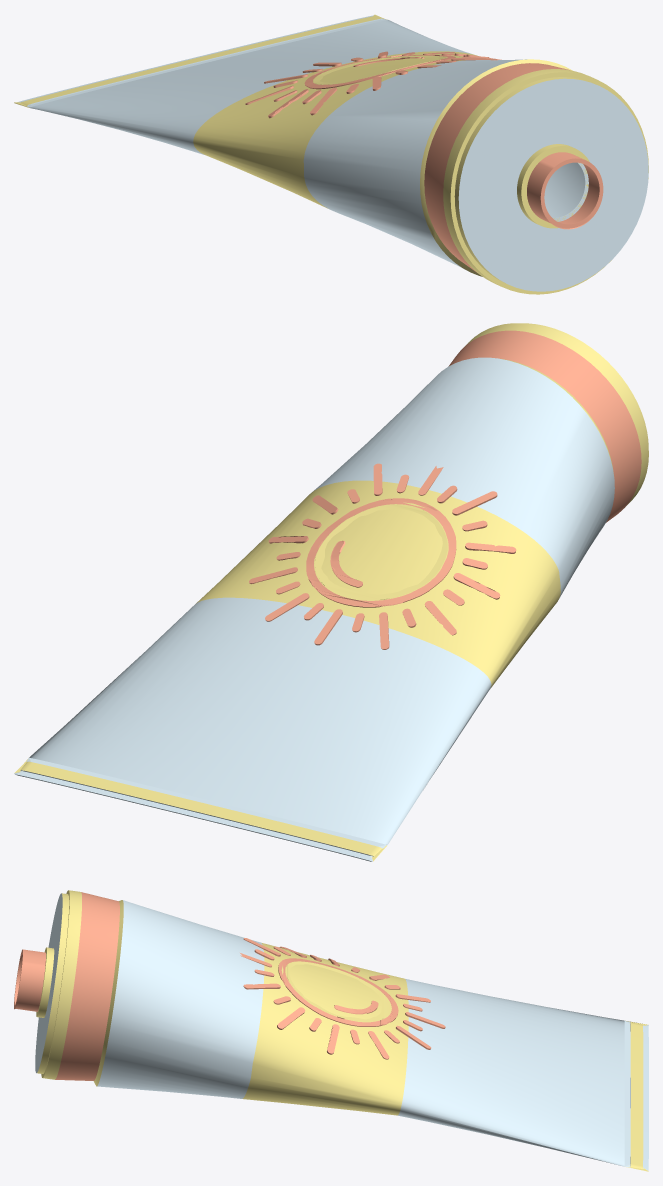
File: sunscreen_kapaksız (1).fbx
3 renders of one model, top to bottom at view 1: azimuth 30°, elevation 25°; view 2: azimuth 150°, elevation 25°; view 3: azimuth 270°, elevation 25°, orthographic. The views are drawn at different scales.
Parts seen in each view (by area): view 1: Circle.002; view 2: Circle.002; view 3: Circle.002.
Part boxes in pixels (x1=…): Circle.002: x1=14, y1=14, x2=648, y2=294; Circle.002: x1=14, y1=323, x2=648, y2=861; Circle.002: x1=14, y1=890, x2=648, y2=1171.
Size of the model in its own units: 420 by 267 by 769.
